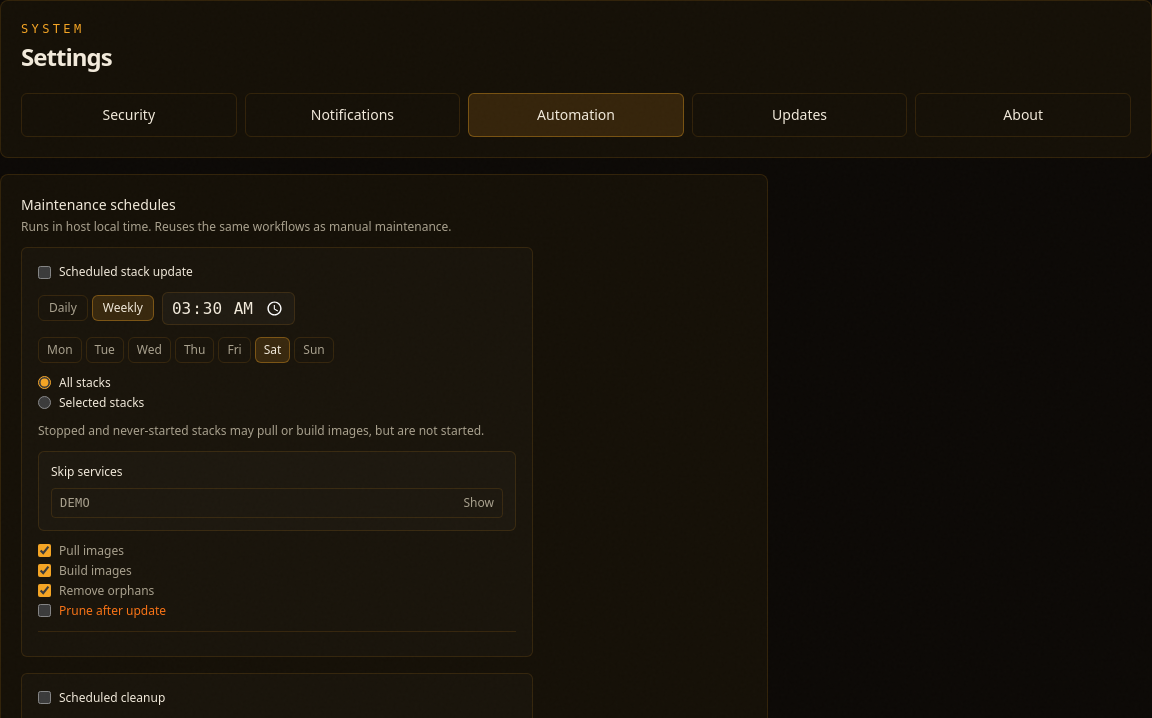
Test case: SettingsPage › lazy-loads stack services only after expanding skip services
The image size is (1152, 718).
Expected: the heading "Maintenance schedules" is shown, [21,195,176,214]
Click the button "demo Show" at (75, 503), box [51,488,503,518]
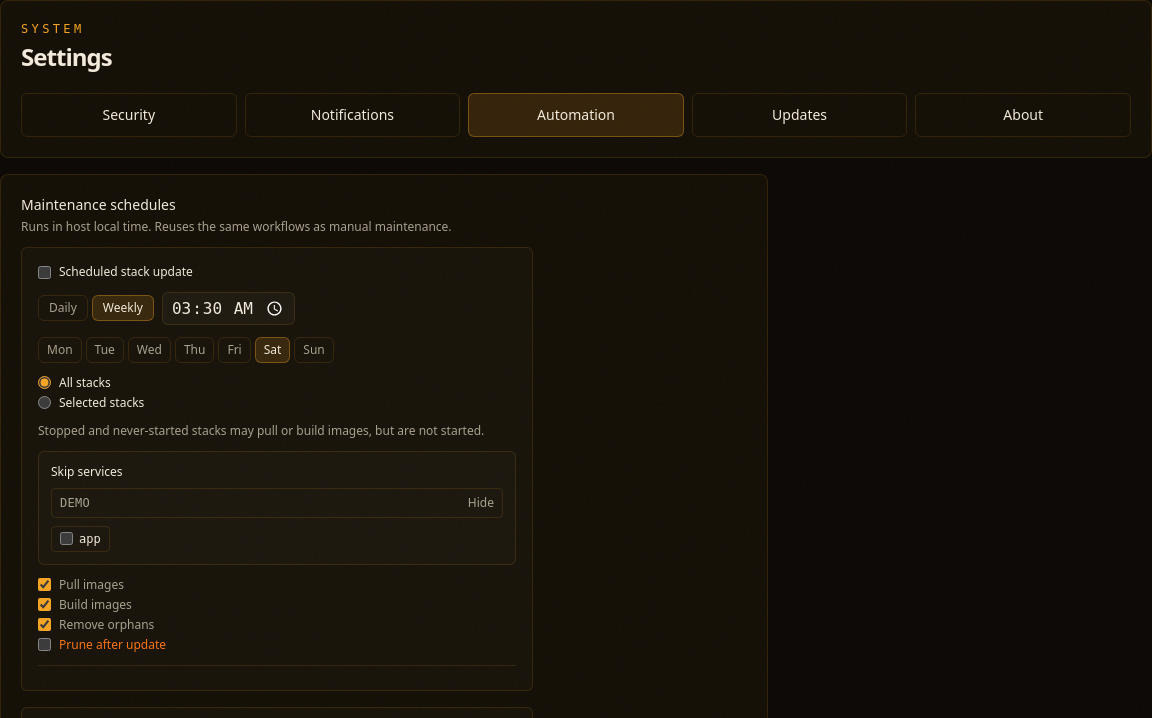
Now the text "app" is shown, box [79,531,101,547]
Click the button with aria-label "Hide services for demo" at (75, 503), box [51,488,503,518]
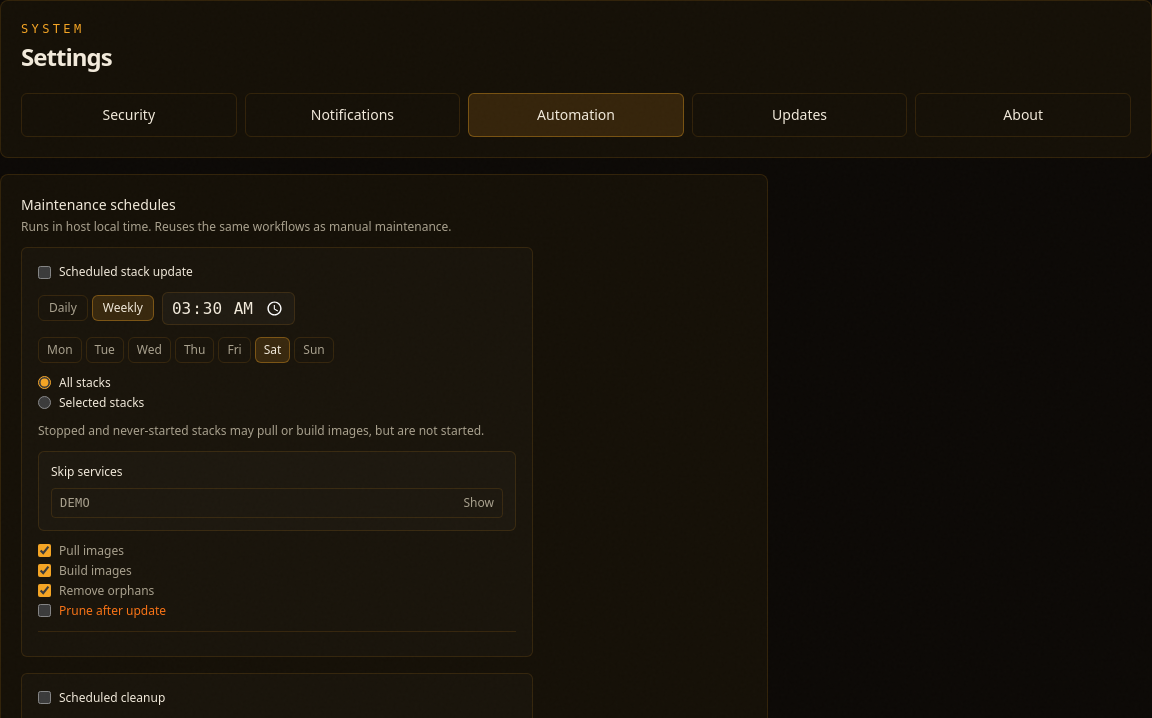
Click the button with aria-label "Show services for demo" at (75, 503), box [51,488,503,518]
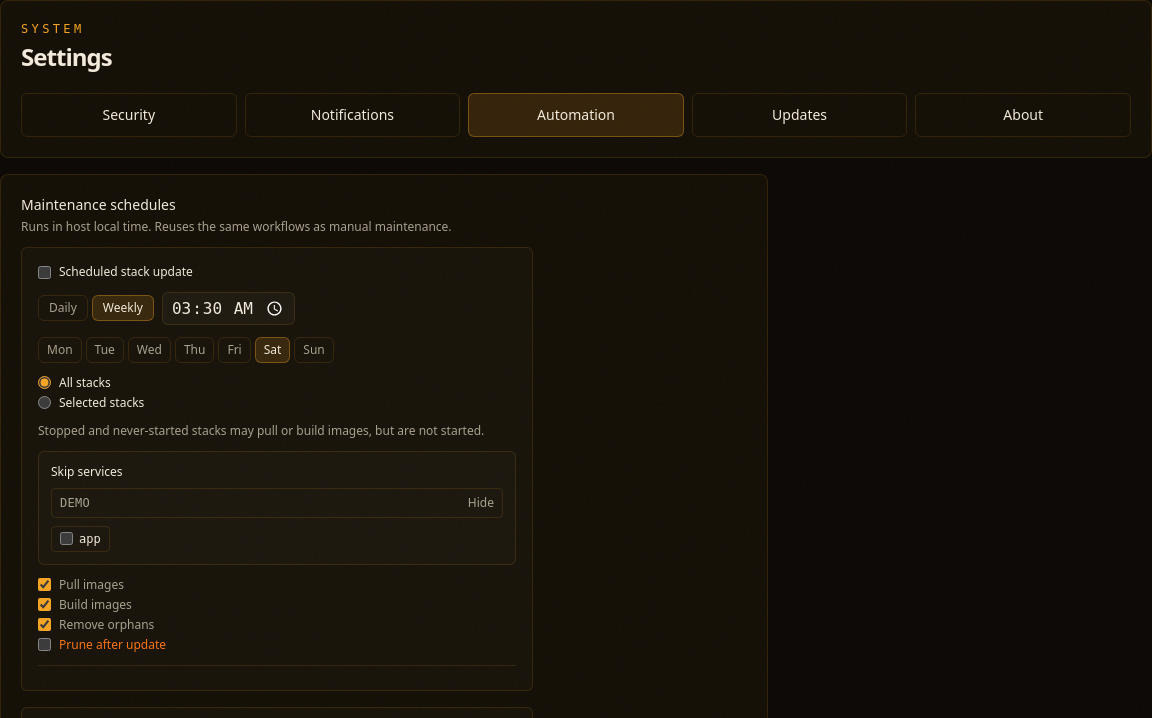
Now the text "app" is shown, box [79,531,101,547]
